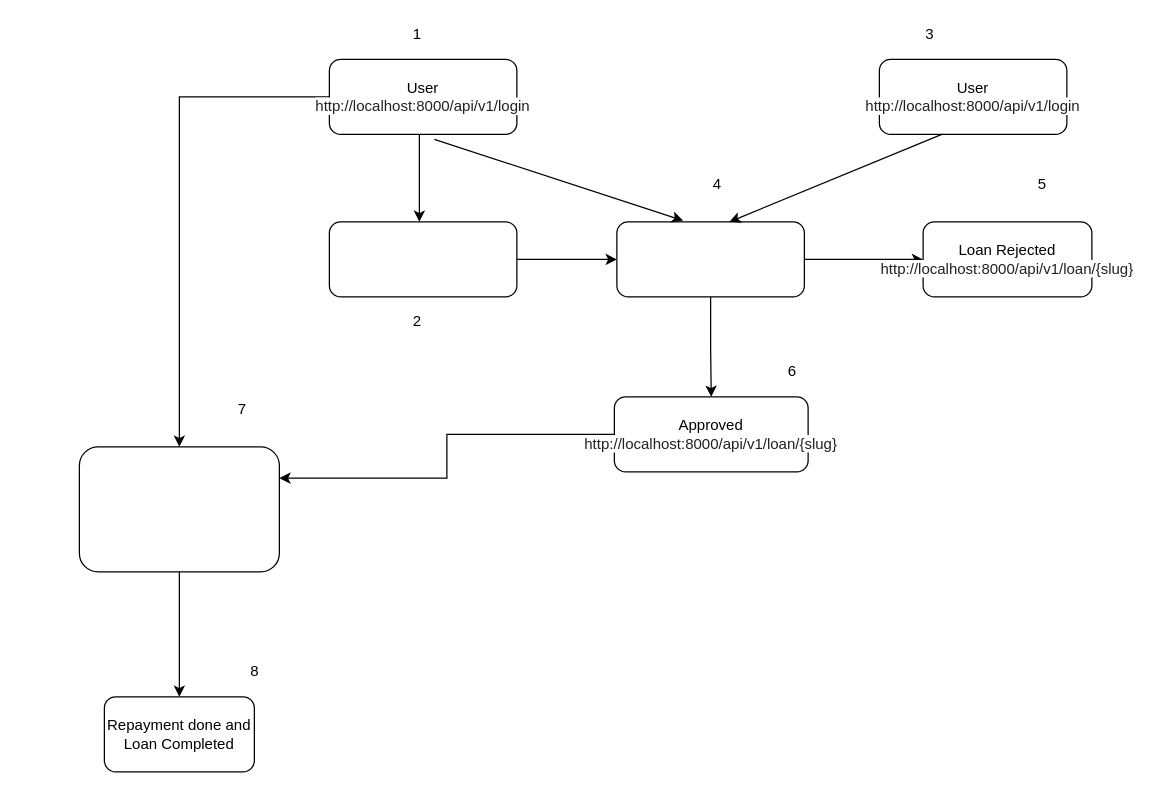
This 1155x794 diagram has some shape labels left out. Each missing label, with the centre of its shape:
"Loan List GET http://localhost:8000/api/v1/loan" goes at [710,259].
"Loan Request POST http://localhost:8000/api/v1/loan" goes at [422,259].
"Repayment http://localhost:8000/api/v1/loan/repayment/pay" goes at [178,509].
